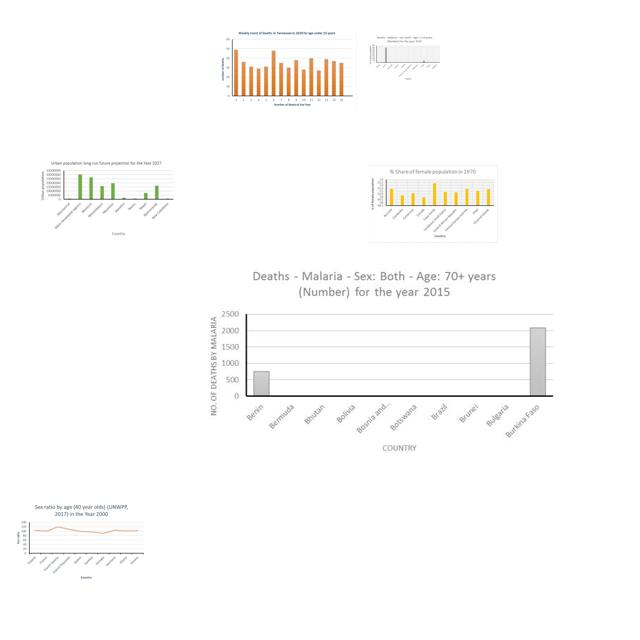Graph: (208, 268, 558, 456), (218, 29, 357, 110), (37, 158, 175, 238), (13, 503, 146, 580), (368, 165, 498, 243), (368, 35, 441, 81)
